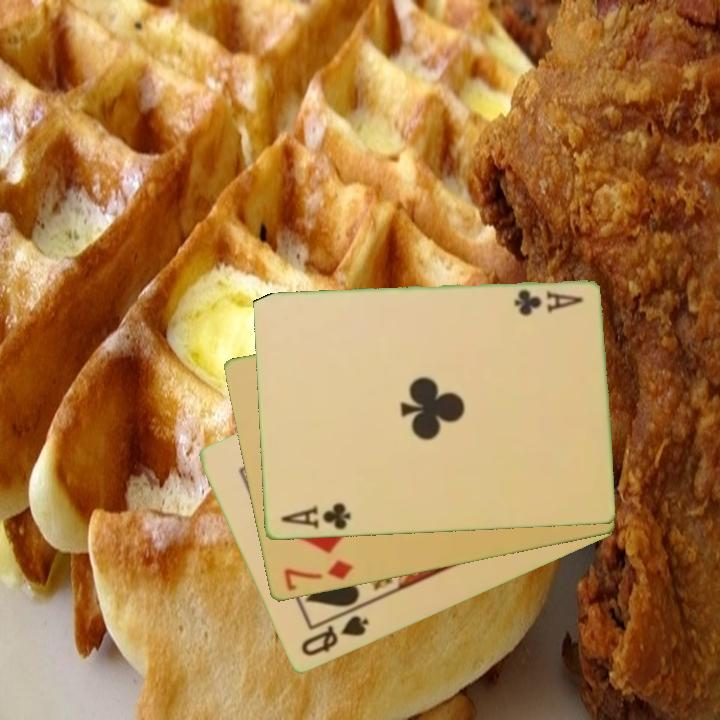7d: (280, 557, 356, 595)
Ac: (277, 500, 353, 533), (510, 286, 585, 319)
Qs: (297, 612, 372, 660)
